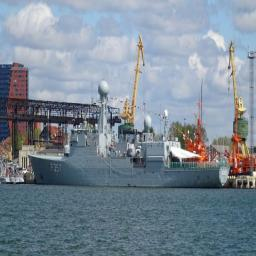Fragata: (28, 69, 233, 192)
